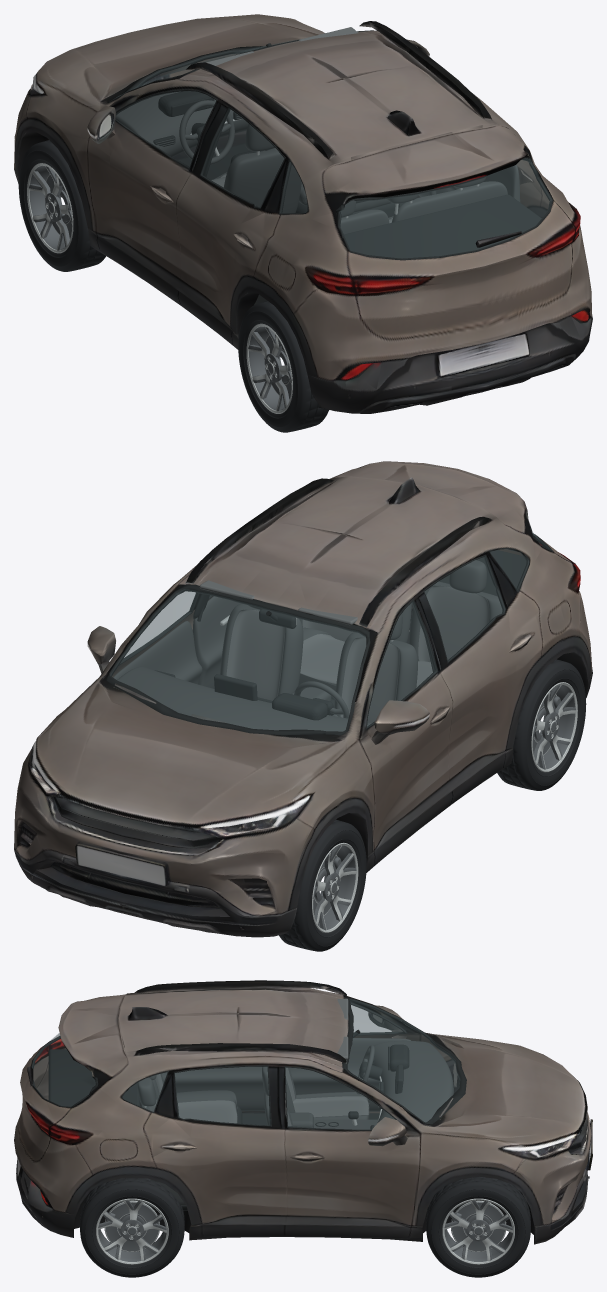
Rendered from Car.fbx.
3 renders of one model, top to bottom at view 1: azimuth 30°, elevation 25°; view 2: azimuth 150°, elevation 25°; view 3: azimuth 270°, elevation 25°, orthographic. The views are drawn at different scales.
Visible parts, largest first — view 1: Body, Glass_RearWindow, CabinTrim, Wheel_Rear_Left, Seats, Wheel_Front_Left, Dashboard, Glass_RearDoor_Left, Glass_FrontDoor_Left, WindowSeals, Glass_Quarter_Left, Glass_Windshield; view 2: Body, Glass_Windshield, Seats, Dashboard, Wheel_Rear_Left, Wheel_Front_Left, CabinTrim, WindowSeals, Glass_RearDoor_Left, Glass_FrontDoor_Left, Glass_FrontDoor_Right, Glass_Quarter_Left; view 3: Body, Wheel_Front_Right, Wheel_Rear_Right, Glass_Windshield, CabinTrim, Dashboard, Seats, Glass_RearDoor_Right, Glass_FrontDoor_Right, WindowSeals, Glass_RearWindow, Glass_Quarter_Right (+1 smaller).
Part boxes in pixels (<box>): Body: <box>14,14,592,413</box>; Glass_RearWindow: <box>339,159,551,258</box>; CabinTrim: <box>177,27,541,304</box>; Wheel_Rear_Left: <box>238,301,328,432</box>; Seats: <box>211,124,507,234</box>; Wheel_Front_Left: <box>18,140,105,271</box>; Dashboard: <box>115,43,307,212</box>; Glass_RearDoor_Left: <box>201,108,283,206</box>; Glass_FrontDoor_Left: <box>116,91,215,167</box>; WindowSeals: <box>107,30,553,260</box>; Glass_Quarter_Left: <box>280,162,307,212</box>; Glass_Windshield: <box>131,39,298,89</box>; Body: <box>14,461,592,937</box>; Glass_Windshield: <box>111,589,365,731</box>; Seats: <box>220,560,502,722</box>; Dashboard: <box>117,609,372,731</box>; Wheel_Rear_Left: <box>497,659,586,790</box>; Wheel_Front_Left: <box>279,820,366,951</box>; CabinTrim: <box>113,550,526,688</box>; WindowSeals: <box>106,526,553,735</box>; Glass_RearDoor_Left: <box>425,556,504,660</box>; Glass_FrontDoor_Left: <box>367,602,436,727</box>; Glass_FrontDoor_Right: <box>124,592,196,657</box>; Glass_Quarter_Left: <box>490,549,528,589</box>; Body: <box>14,980,592,1244</box>; Wheel_Front_Right: <box>426,1176,530,1277</box>; Wheel_Rear_Right: <box>79,1178,184,1277</box>; Glass_Windshield: <box>348,999,460,1121</box>; CabinTrim: <box>48,998,468,1210</box>; Dashboard: <box>290,1029,453,1129</box>; Seats: <box>137,1066,369,1126</box>; Glass_RearDoor_Right: <box>175,1067,270,1125</box>; Glass_FrontDoor_Right: <box>285,1067,393,1129</box>; WindowSeals: <box>31,997,466,1130</box>; Glass_RearWindow: <box>32,1033,95,1106</box>; Glass_Quarter_Right: <box>123,1072,166,1111</box>.
Size of the model in its own units: 1.97 by 1.55 by 3.74.
Materials: 9 (1 with a texture image).
